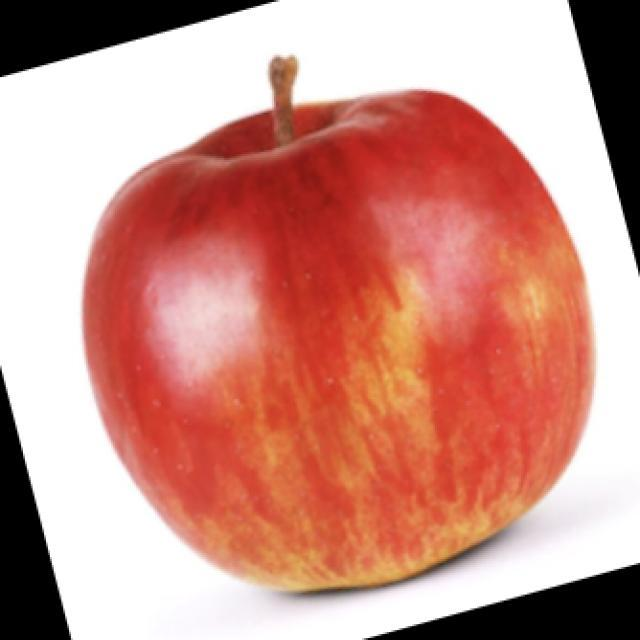Fresh Apple: (84, 100, 588, 588)
